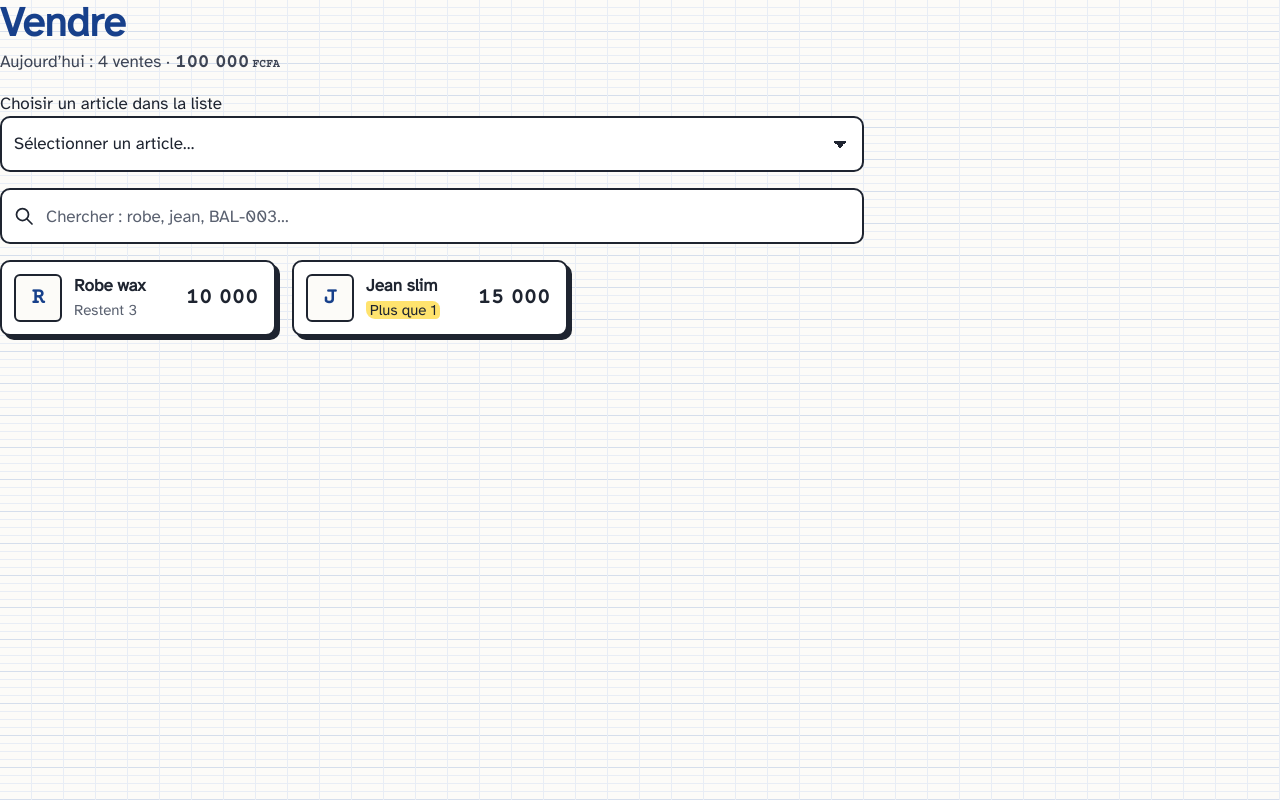
it: SalePage — the cart (phone) › one article sells as before, through resilientSale
Expected: the text "Robe wax" is shown, [74,275,145,296]
Click the button "R Robe wax Restent 3 10 000": click(138, 298) [0,260,276,336]
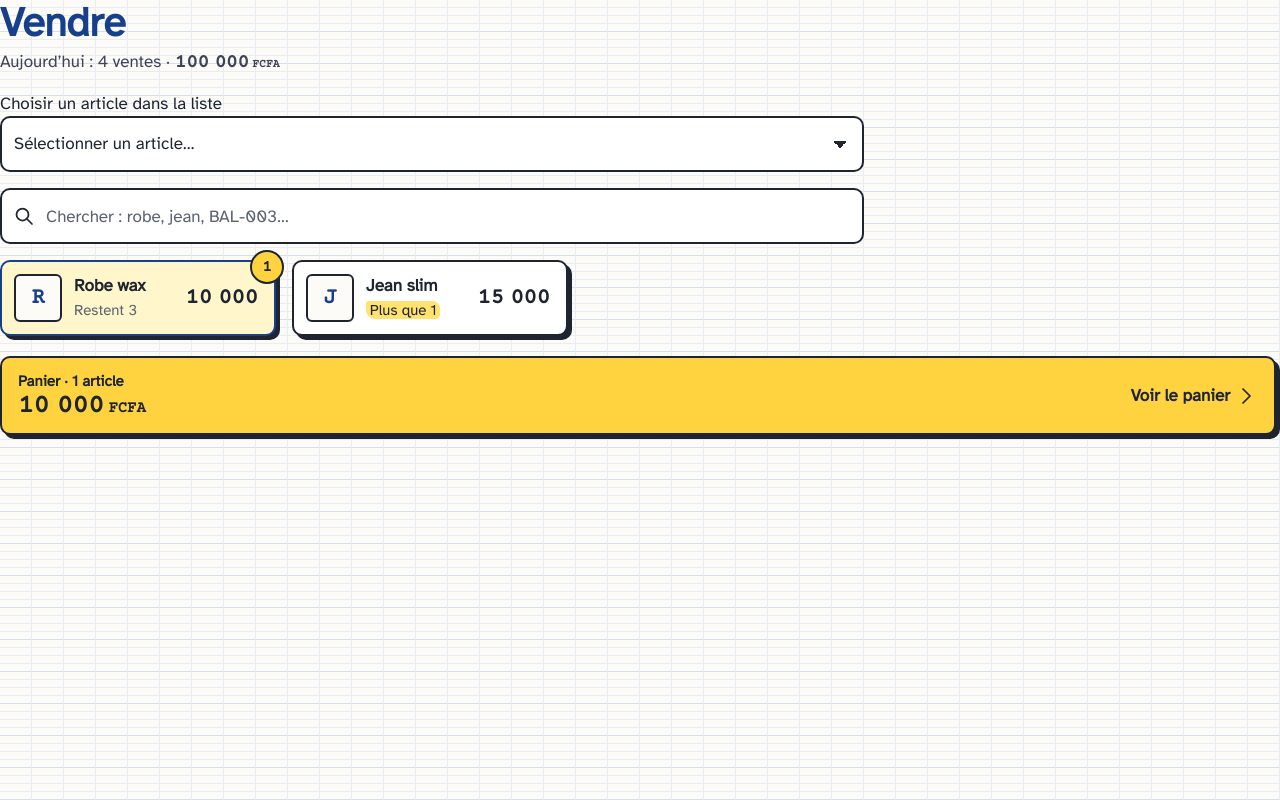
Click the button "Panier · 1 article 10 000FCFA Voir le panier": click(39, 381) [0,356,1276,435]
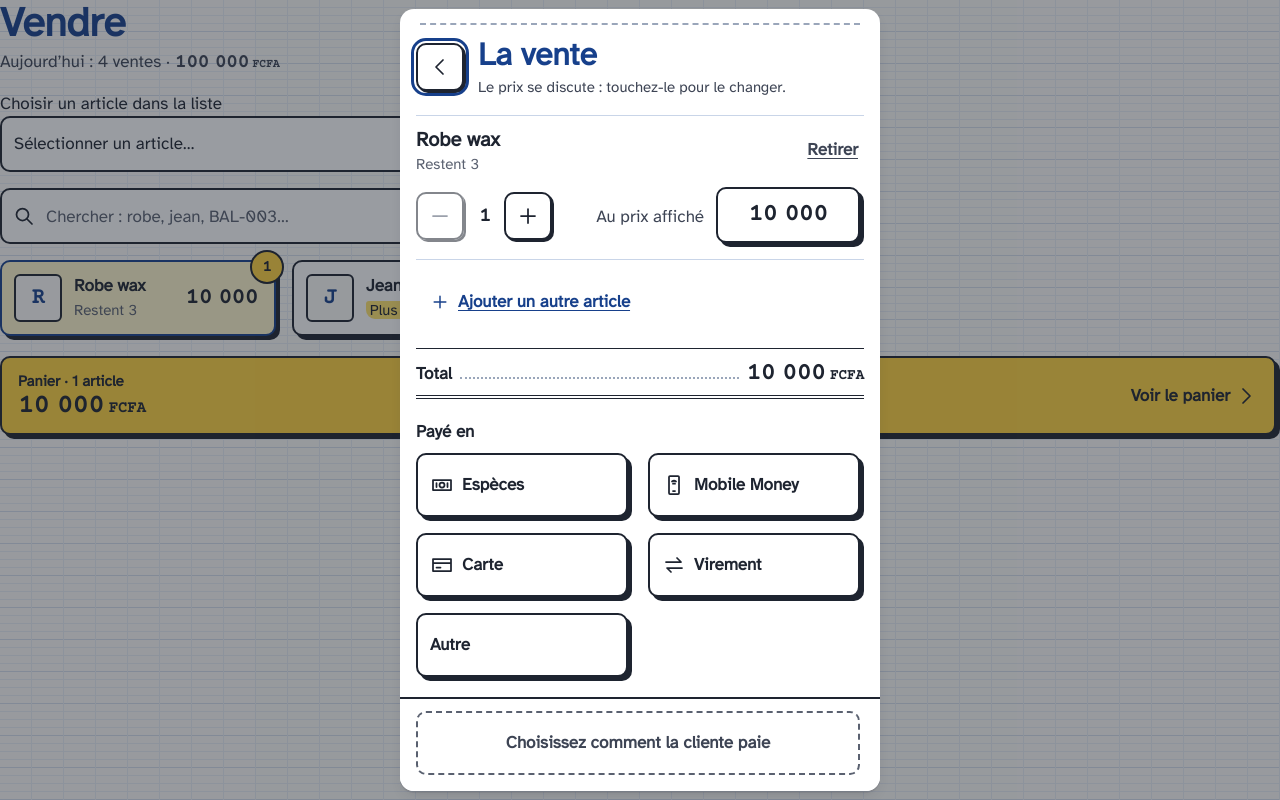
Click the radio button labelled "Espèces": click(524, 487) [416,453,632,521]
(page scrolled)
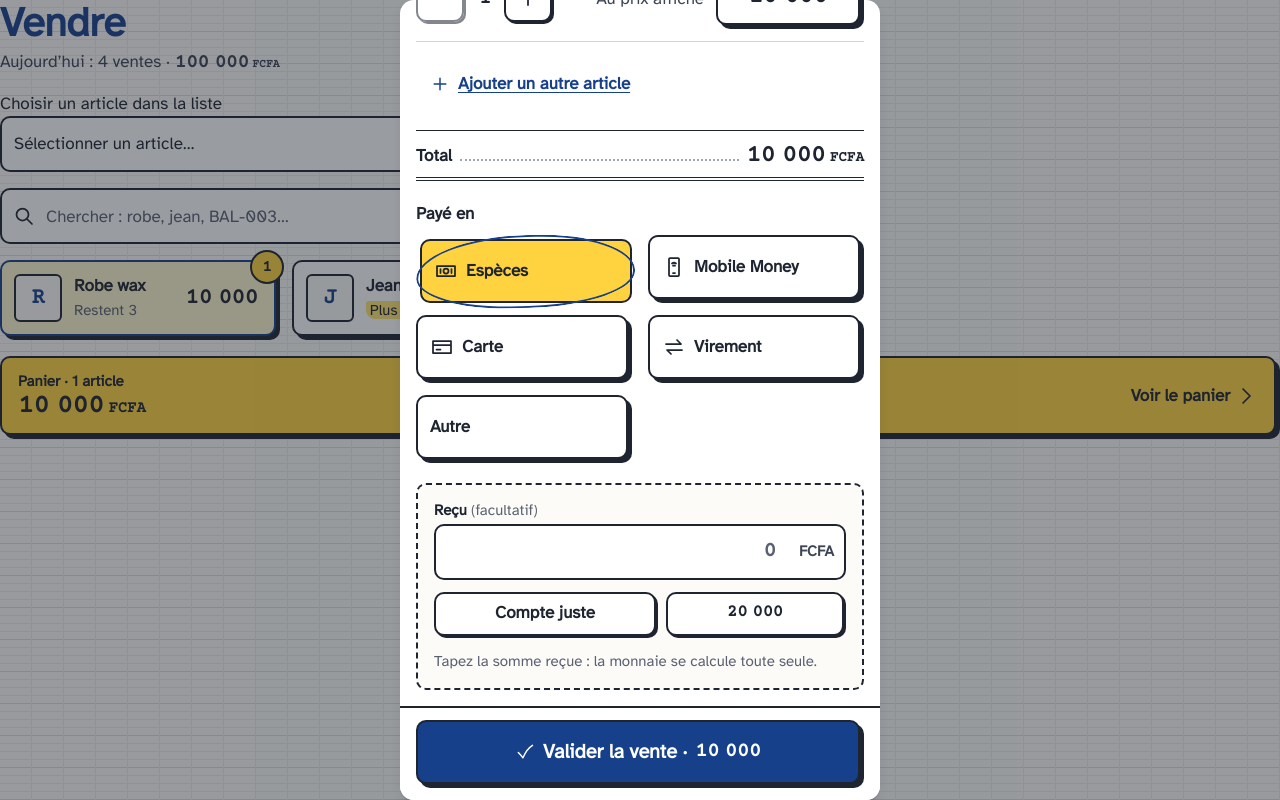
Click the button "Compte juste": click(545, 614) [434,592,656,636]
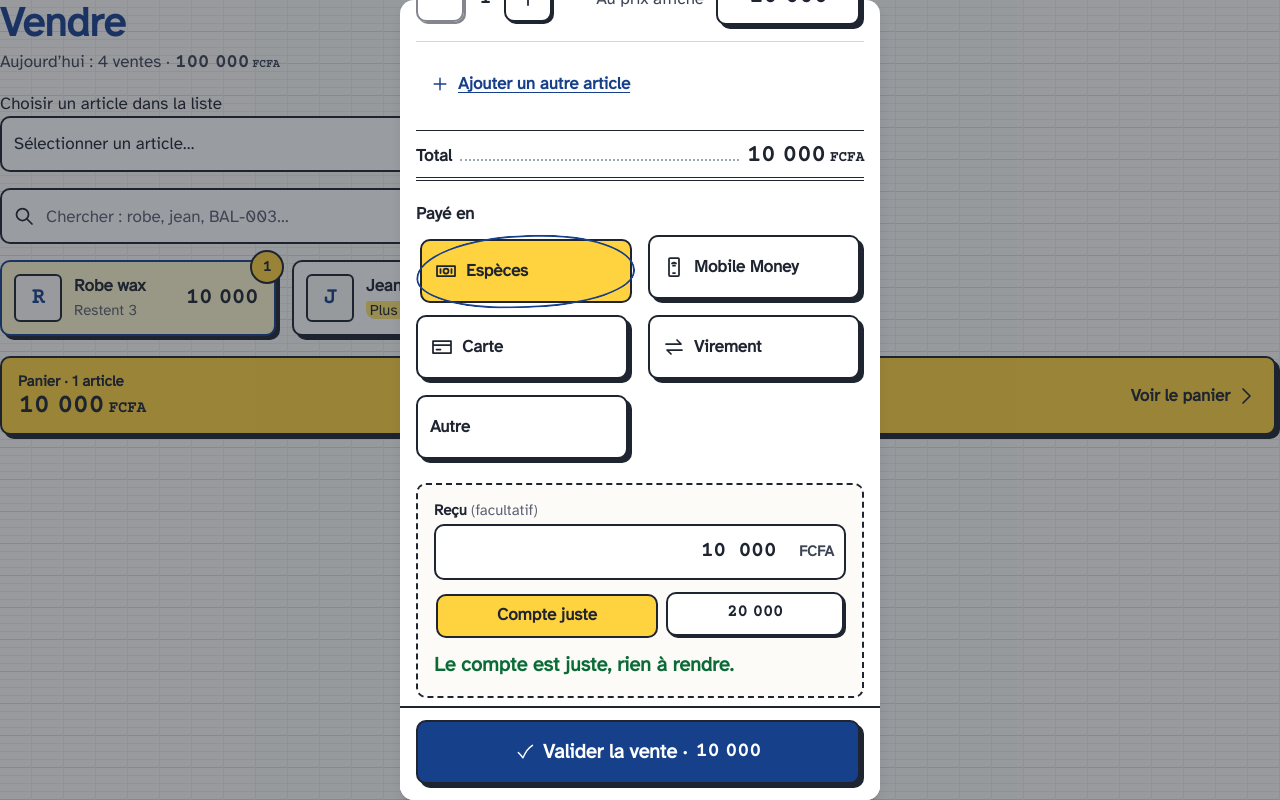
Click the button "Valider la vente · 10 000": click(638, 752) [416,720,860,784]
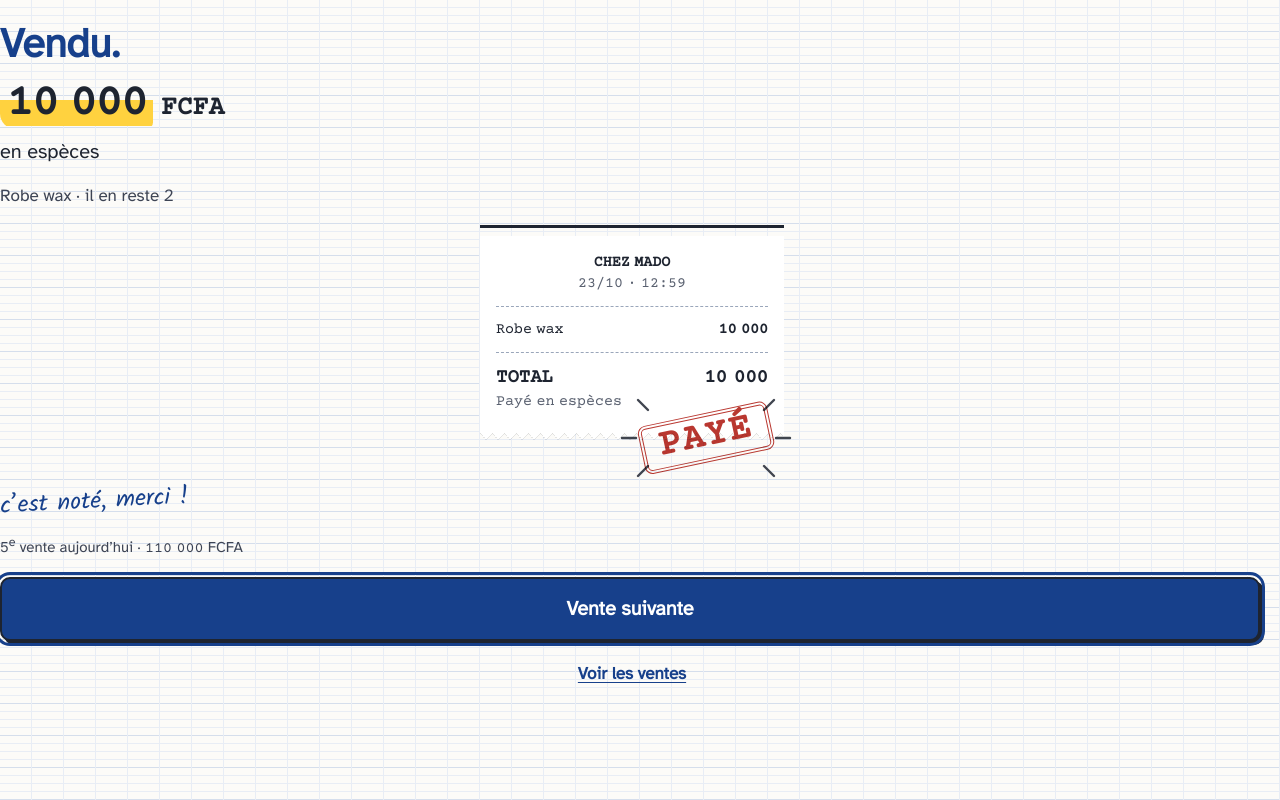
Result: the heading "Vendu." is shown at [0,24,120,65]
Result: the text "Robe wax · il en reste 2" is shown at [0,183,173,209]
